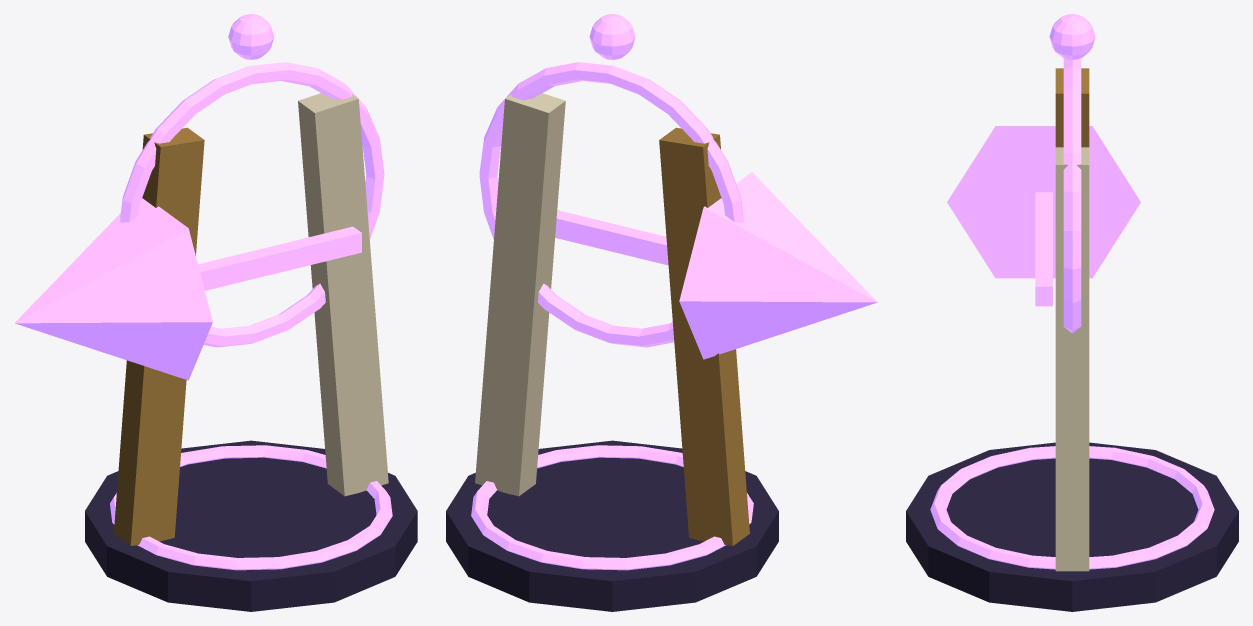
Rendered from runtime.glb.
The picture shows the model from 3 angles, left to right: view 1: azimuth 30°, elevation 25°; view 2: azimuth 150°, elevation 25°; view 3: azimuth 270°, elevation 25°; orthographic projection.
Visible parts, largest first — view 1: aetherion-orbit-beacon-v06_base_nocol, aetherion-orbit-beacon-v06_right_leg_nocol, aetherion-orbit-beacon-v06_direction_head_nocol, aetherion-orbit-beacon-v06_left_leg_nocol, aetherion-orbit-beacon-v06_open_hoop_nocol, aetherion-orbit-beacon-v06_base_orbit_nocol, aetherion-orbit-beacon-v06_direction_bar_nocol, aetherion-orbit-beacon-v06_zenith_nocol; view 2: aetherion-orbit-beacon-v06_base_nocol, aetherion-orbit-beacon-v06_right_leg_nocol, aetherion-orbit-beacon-v06_direction_head_nocol, aetherion-orbit-beacon-v06_left_leg_nocol, aetherion-orbit-beacon-v06_open_hoop_nocol, aetherion-orbit-beacon-v06_base_orbit_nocol, aetherion-orbit-beacon-v06_direction_bar_nocol, aetherion-orbit-beacon-v06_zenith_nocol; view 3: aetherion-orbit-beacon-v06_base_nocol, aetherion-orbit-beacon-v06_direction_head_nocol, aetherion-orbit-beacon-v06_right_leg_nocol, aetherion-orbit-beacon-v06_base_orbit_nocol, aetherion-orbit-beacon-v06_open_hoop_nocol, aetherion-orbit-beacon-v06_direction_bar_nocol, aetherion-orbit-beacon-v06_zenith_nocol, aetherion-orbit-beacon-v06_left_leg_nocol.
Boxes of the visible parts, <box> form: aetherion-orbit-beacon-v06_base_nocol: <box>85,440,417,611</box>; aetherion-orbit-beacon-v06_right_leg_nocol: <box>298,93,388,496</box>; aetherion-orbit-beacon-v06_direction_head_nocol: <box>14,198,212,380</box>; aetherion-orbit-beacon-v06_left_leg_nocol: <box>113,127,204,545</box>; aetherion-orbit-beacon-v06_open_hoop_nocol: <box>120,62,384,347</box>; aetherion-orbit-beacon-v06_base_orbit_nocol: <box>110,445,392,570</box>; aetherion-orbit-beacon-v06_direction_bar_nocol: <box>198,226,361,290</box>; aetherion-orbit-beacon-v06_zenith_nocol: <box>228,14,274,59</box>; aetherion-orbit-beacon-v06_base_nocol: <box>446,440,778,611</box>; aetherion-orbit-beacon-v06_right_leg_nocol: <box>475,93,565,496</box>; aetherion-orbit-beacon-v06_direction_head_nocol: <box>679,172,877,359</box>; aetherion-orbit-beacon-v06_left_leg_nocol: <box>659,127,749,545</box>; aetherion-orbit-beacon-v06_open_hoop_nocol: <box>479,62,743,347</box>; aetherion-orbit-beacon-v06_base_orbit_nocol: <box>471,445,753,570</box>; aetherion-orbit-beacon-v06_direction_bar_nocol: <box>555,210,668,265</box>; aetherion-orbit-beacon-v06_zenith_nocol: <box>589,14,635,59</box>; aetherion-orbit-beacon-v06_base_nocol: <box>906,442,1238,611</box>; aetherion-orbit-beacon-v06_direction_head_nocol: <box>947,126,1140,278</box>; aetherion-orbit-beacon-v06_right_leg_nocol: <box>1055,147,1089,571</box>; aetherion-orbit-beacon-v06_base_orbit_nocol: <box>930,446,1214,569</box>; aetherion-orbit-beacon-v06_open_hoop_nocol: <box>1063,58,1081,333</box>; aetherion-orbit-beacon-v06_direction_bar_nocol: <box>1035,192,1052,306</box>; aetherion-orbit-beacon-v06_zenith_nocol: <box>1049,14,1095,59</box>; aetherion-orbit-beacon-v06_left_leg_nocol: <box>1055,68,1089,147</box>.
Bounding box in the file's own units: 6.73 × 8.56 × 4.91.
